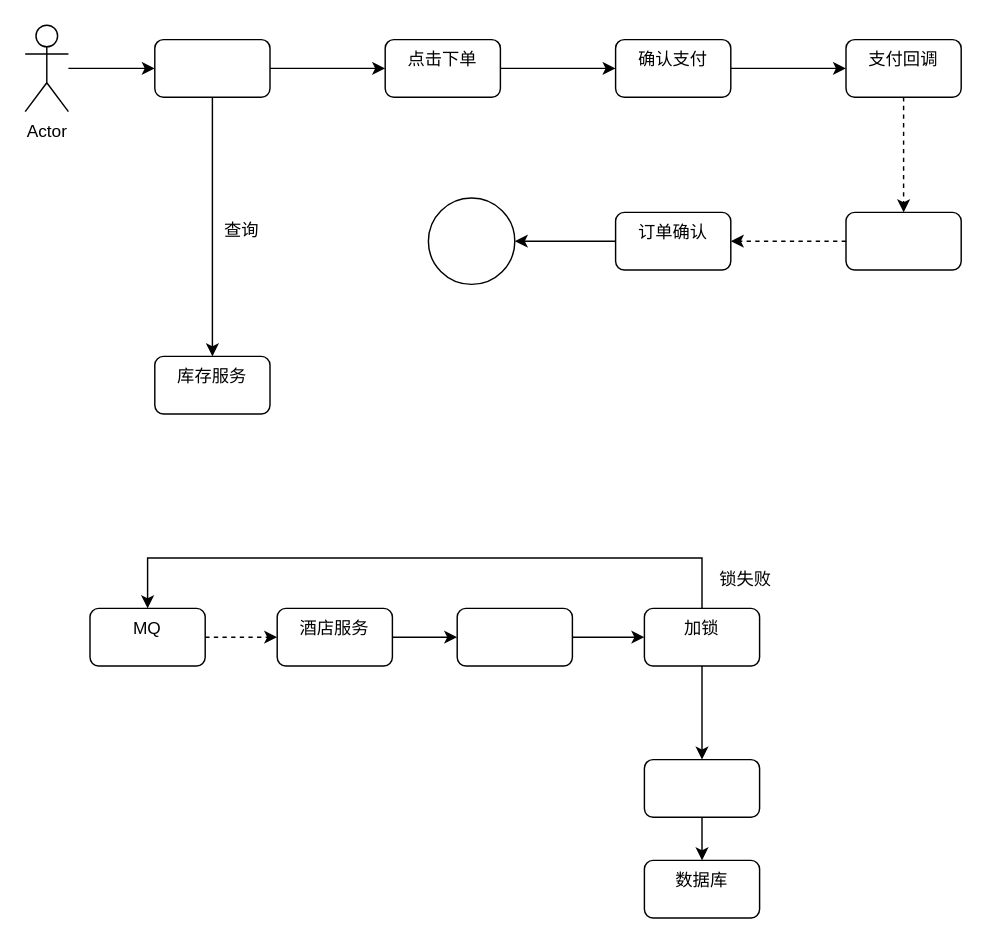
This 986x943 diagram has some shape labels left out. The box of each missing label's shape, as (x1, y1, x2, y2) in pixels:
业务处理: (643, 758, 760, 817)
产品查询: (153, 38, 270, 97)
开放平台: (456, 607, 572, 666)
权益扣减: (845, 211, 961, 270)
结束: (427, 197, 515, 284)
